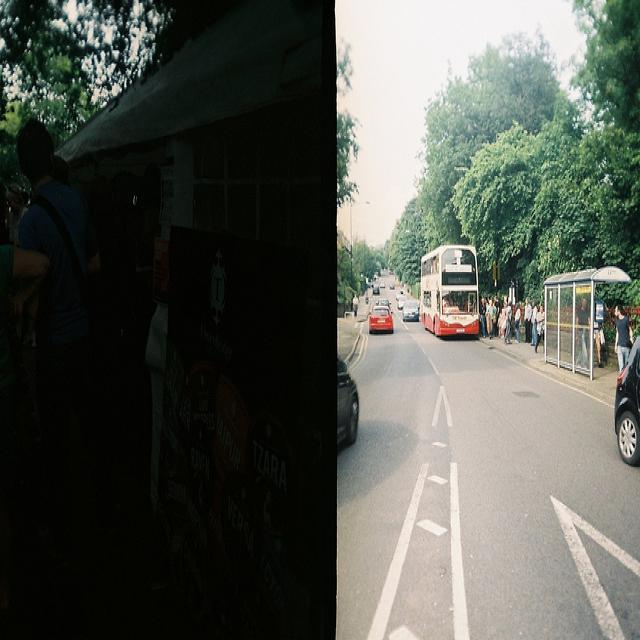Vehicle: (418, 242, 479, 336), (614, 335, 640, 466), (339, 360, 359, 451), (369, 306, 394, 334), (402, 300, 420, 322), (398, 294, 408, 310), (374, 299, 390, 309), (396, 290, 404, 302), (373, 286, 379, 294), (379, 282, 386, 288), (390, 283, 396, 289)
